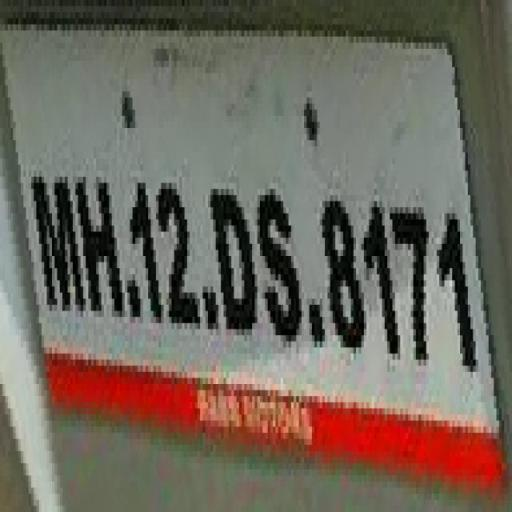number plate: (20, 43, 510, 378)
